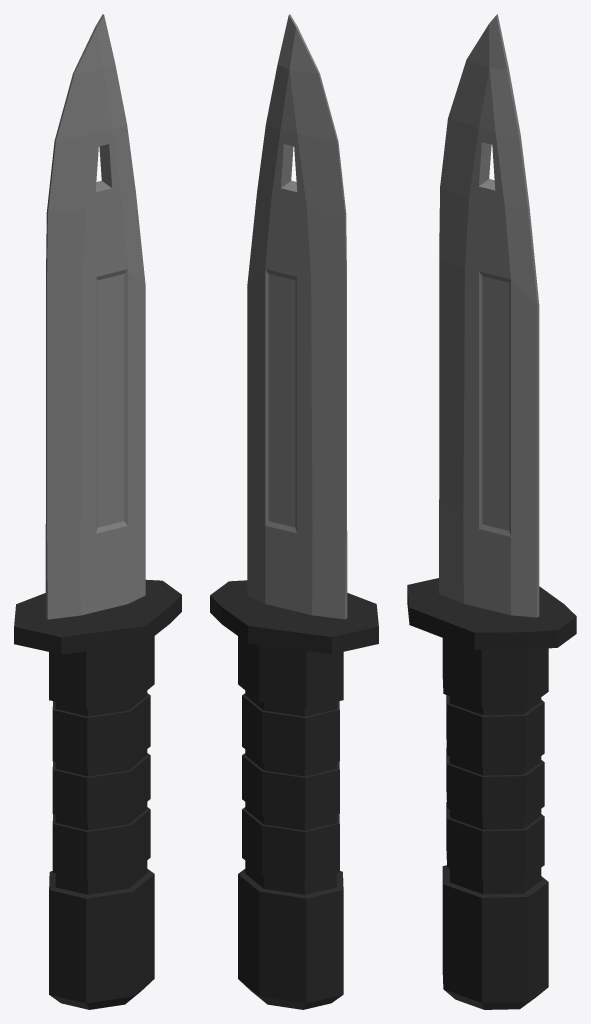
The model's file is M9_Knife.fbx.
The picture shows the model from 3 angles, left to right: view 1: azimuth 30°, elevation 25°; view 2: azimuth 150°, elevation 25°; view 3: azimuth 330°, elevation 25°; orthographic projection.
Parts seen in each view (by area): view 1: M9 Knife; view 2: M9 Knife; view 3: M9 Knife.
Boxes of the visible parts, x1,y1,x2,y2 form: M9 Knife: (14,14,181,1009); M9 Knife: (210,14,378,1009); M9 Knife: (407,14,576,1009).
Size of the model in its own units: 57.82 by 340 by 40.36.
1 material, 1 textured.
